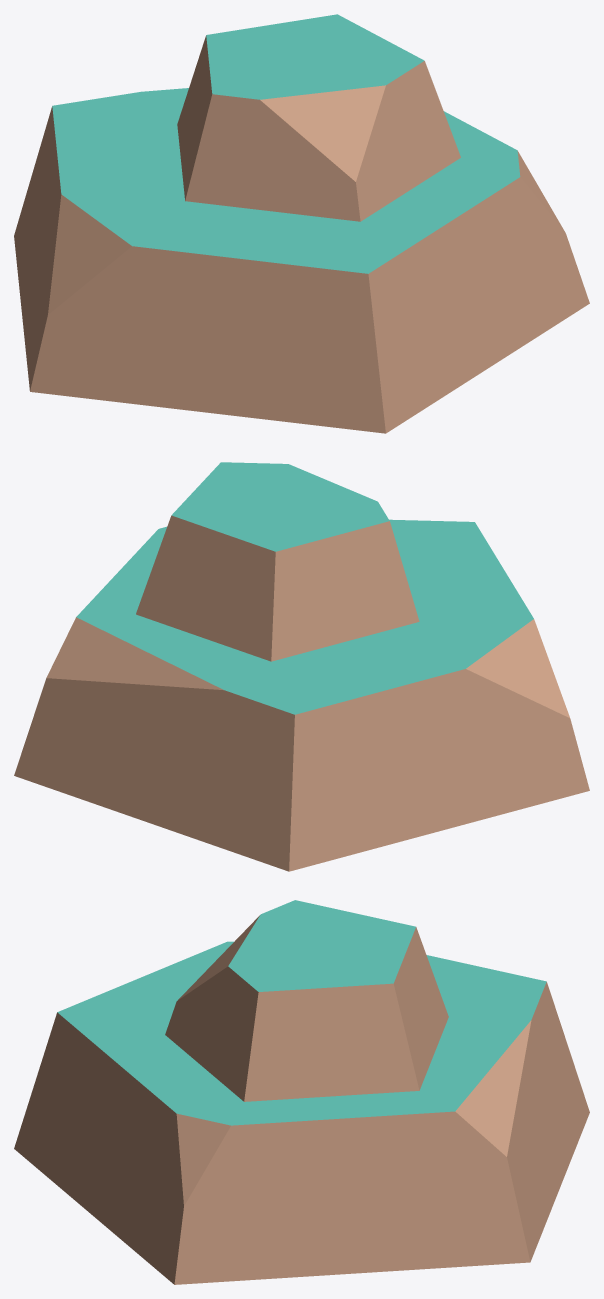
Rendered from rock_smallTopA.glb.
3 renders of one model, top to bottom at view 1: azimuth 30°, elevation 25°; view 2: azimuth 150°, elevation 25°; view 3: azimuth 270°, elevation 25°, orthographic. The views are drawn at different scales.
Parts seen in each view (by area): view 1: rock_smallTopA; view 2: rock_smallTopA; view 3: rock_smallTopA.
Boxes of the visible parts, box(x1,y1,x2,y2) form: rock_smallTopA: box(14, 14, 589, 433); rock_smallTopA: box(14, 462, 589, 871); rock_smallTopA: box(14, 900, 589, 1284).
Bounding box in the file's own units: 0.4877 × 0.22 × 0.4891.
